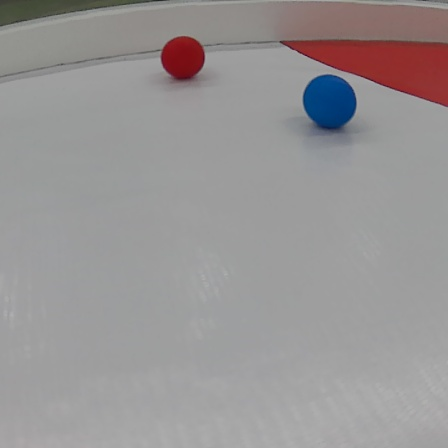blue: (298, 70, 356, 124)
red: (160, 36, 206, 79)
red_base: (288, 26, 448, 103)
